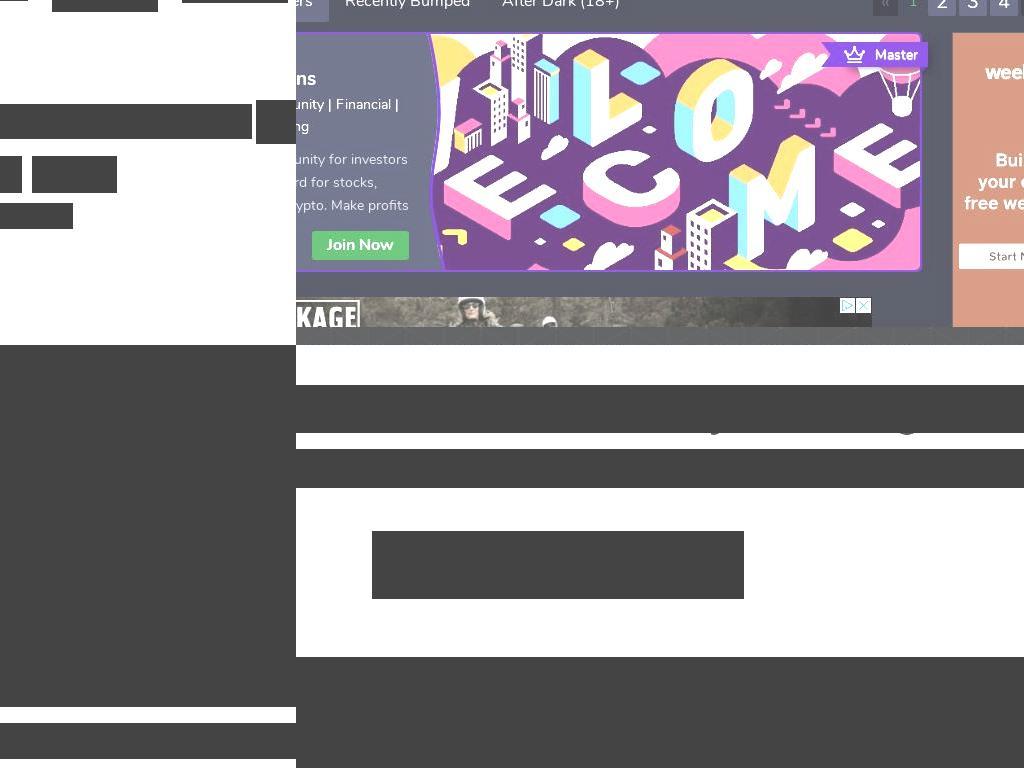button: (372, 531, 744, 599), (312, 48, 472, 105), (486, 48, 646, 105), (312, 0, 472, 38), (486, 0, 646, 38), (477, 18, 656, 47), (296, 18, 471, 47), (374, 55, 543, 84), (619, 92, 774, 121), (664, 55, 814, 84), (886, 129, 1024, 158), (373, 92, 507, 121), (435, 129, 561, 158), (787, 18, 912, 47), (329, 0, 486, 22), (662, 18, 781, 47), (313, 129, 429, 158), (486, 0, 636, 22), (767, 129, 880, 158), (811, 166, 922, 195), (567, 129, 677, 158), (601, 166, 711, 195), (549, 55, 658, 84), (388, 166, 497, 195), (820, 55, 926, 84), (513, 92, 613, 121), (312, 231, 410, 260), (928, 166, 1024, 195), (932, 55, 1024, 84), (503, 166, 595, 195), (863, 92, 954, 121), (717, 166, 805, 195), (296, 166, 382, 195), (296, 203, 376, 232), (683, 129, 761, 158), (780, 92, 857, 121), (296, 55, 368, 84), (296, 92, 367, 121), (918, 18, 986, 47), (256, 100, 296, 144), (485, 0, 620, 10), (843, 46, 918, 63), (818, 0, 926, 10), (377, 0, 479, 10), (720, 0, 812, 10), (932, 0, 1024, 10), (626, 0, 714, 10), (296, 64, 316, 94), (928, 0, 956, 16), (959, 0, 987, 16), (990, 0, 1018, 16), (901, 0, 925, 13)
field: (0, 553, 275, 604), (0, 104, 252, 139), (32, 156, 117, 193), (0, 156, 22, 193)
heading: (296, 385, 1024, 433), (0, 418, 296, 511), (38, 462, 296, 511)
iframe: (296, 297, 872, 345), (952, 32, 1024, 345)
image: (0, 345, 296, 707), (296, 657, 1024, 768), (409, 34, 446, 270), (52, 0, 158, 12), (259, 110, 284, 134)
link: (336, 95, 391, 114), (242, 743, 296, 759), (296, 95, 324, 114), (296, 117, 309, 136)
text: (296, 449, 1024, 488), (0, 723, 296, 759), (296, 148, 410, 240), (420, 552, 673, 577), (296, 21, 439, 43), (488, 21, 624, 43), (385, 58, 511, 80), (897, 132, 1019, 154), (630, 95, 742, 117), (675, 58, 782, 80), (384, 95, 475, 117), (0, 203, 73, 229), (939, 169, 1024, 191), (446, 132, 529, 154), (351, 60, 433, 82), (798, 21, 880, 43), (943, 58, 1024, 80), (673, 21, 749, 43), (822, 169, 898, 191), (324, 132, 397, 154), (778, 132, 848, 154), (318, 17, 466, 27), (492, 17, 640, 27), (318, 84, 466, 94), (492, 84, 640, 94), (578, 132, 645, 154), (612, 169, 679, 191), (560, 58, 626, 80), (399, 169, 465, 191), (831, 58, 894, 80), (524, 95, 581, 117), (296, 206, 352, 228), (539, 60, 593, 82), (296, 169, 350, 191), (728, 169, 781, 191), (355, 0, 429, 15), (514, 169, 563, 191), (874, 95, 922, 117), (535, 0, 597, 15), (296, 58, 336, 80), (296, 95, 335, 117), (694, 132, 729, 154), (791, 95, 825, 117), (875, 47, 918, 62), (929, 21, 954, 43), (496, 0, 577, 6), (943, 0, 1024, 6), (439, 24, 463, 42), (624, 24, 648, 42), (749, 24, 773, 42), (880, 24, 904, 42), (954, 24, 978, 42), (336, 61, 360, 79), (511, 61, 535, 79), (626, 61, 650, 79), (782, 61, 806, 79), (894, 61, 918, 79), (335, 98, 359, 116), (475, 98, 499, 116), (581, 98, 605, 116), (742, 98, 766, 116), (825, 98, 849, 116), (922, 98, 946, 116), (397, 135, 421, 153), (529, 135, 553, 153), (645, 135, 669, 153), (729, 135, 753, 153), (848, 135, 872, 153), (350, 172, 374, 190), (465, 172, 489, 190), (563, 172, 587, 190), (679, 172, 703, 190), (829, 0, 894, 6), (731, 0, 780, 6), (388, 0, 436, 6), (781, 172, 797, 190), (898, 172, 914, 190), (352, 209, 368, 227), (637, 0, 682, 6), (324, 95, 336, 114), (328, 0, 363, 5), (436, 0, 471, 5), (577, 0, 612, 5), (391, 95, 399, 114), (682, 0, 706, 5), (780, 0, 804, 5), (894, 0, 918, 5), (1019, 135, 1024, 153)
